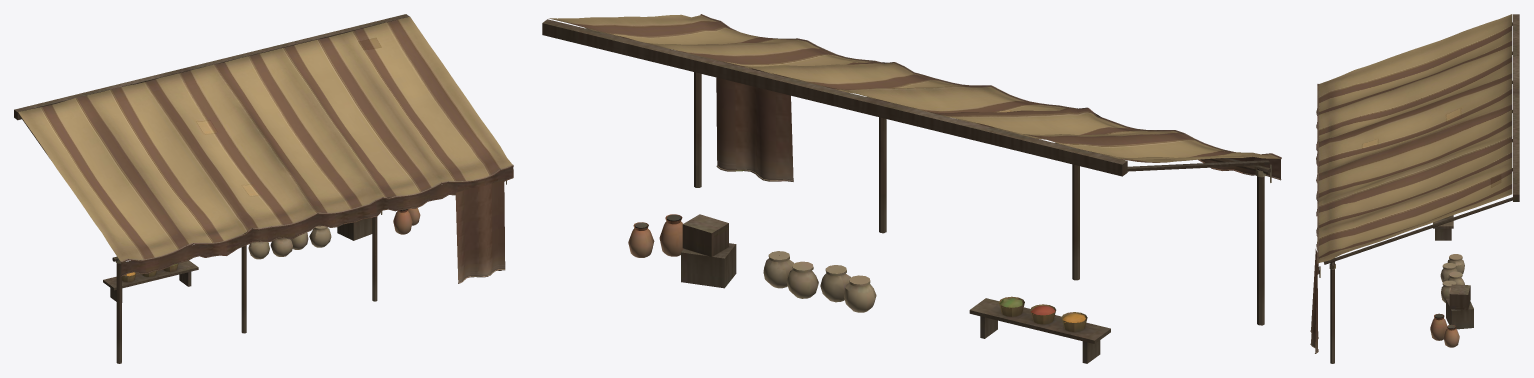
The model's file is vc_awning.glb.
3 renders of one model, left to right at view 1: azimuth 30°, elevation 25°; view 2: azimuth 150°, elevation 25°; view 3: azimuth 270°, elevation 25°, orthographic. The views are drawn at different scales.
Parts seen in each view (by area): view 1: vc_awning; view 2: vc_awning; view 3: vc_awning.
Part boxes in pixels (left/top/right/bottom): vc_awning: left=14, top=14, right=513, bottom=363; vc_awning: left=542, top=14, right=1281, bottom=363; vc_awning: left=1310, top=14, right=1519, bottom=363.
Bounding box in the file's own units: 10.21 × 4.53 × 5.02.
Materials: 1 (1 with a texture image).
